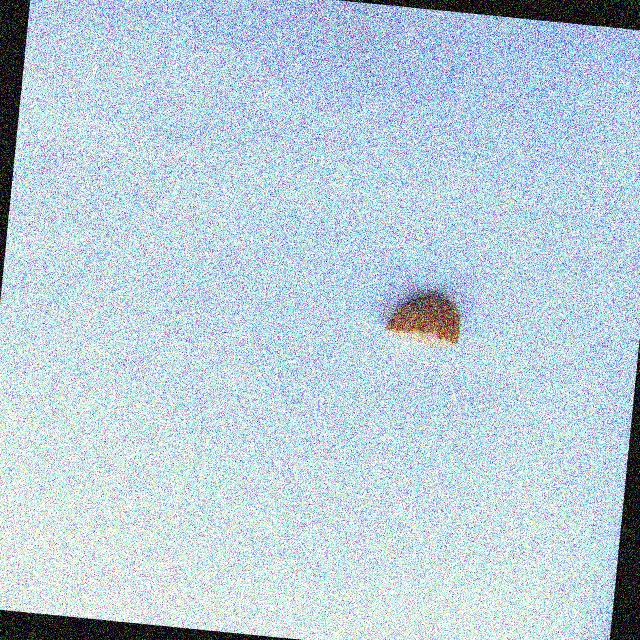grade4: (375, 284, 471, 355)
